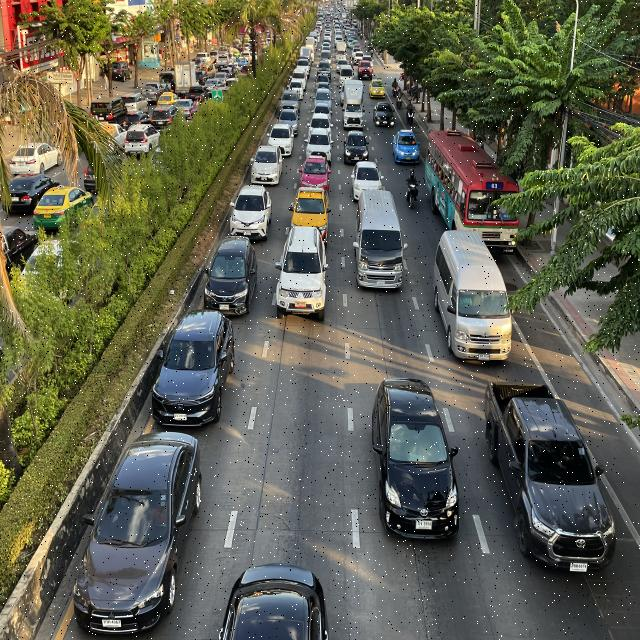bike: (402, 159, 422, 215)
bus: (422, 122, 522, 260)
truck: (340, 75, 367, 133)
